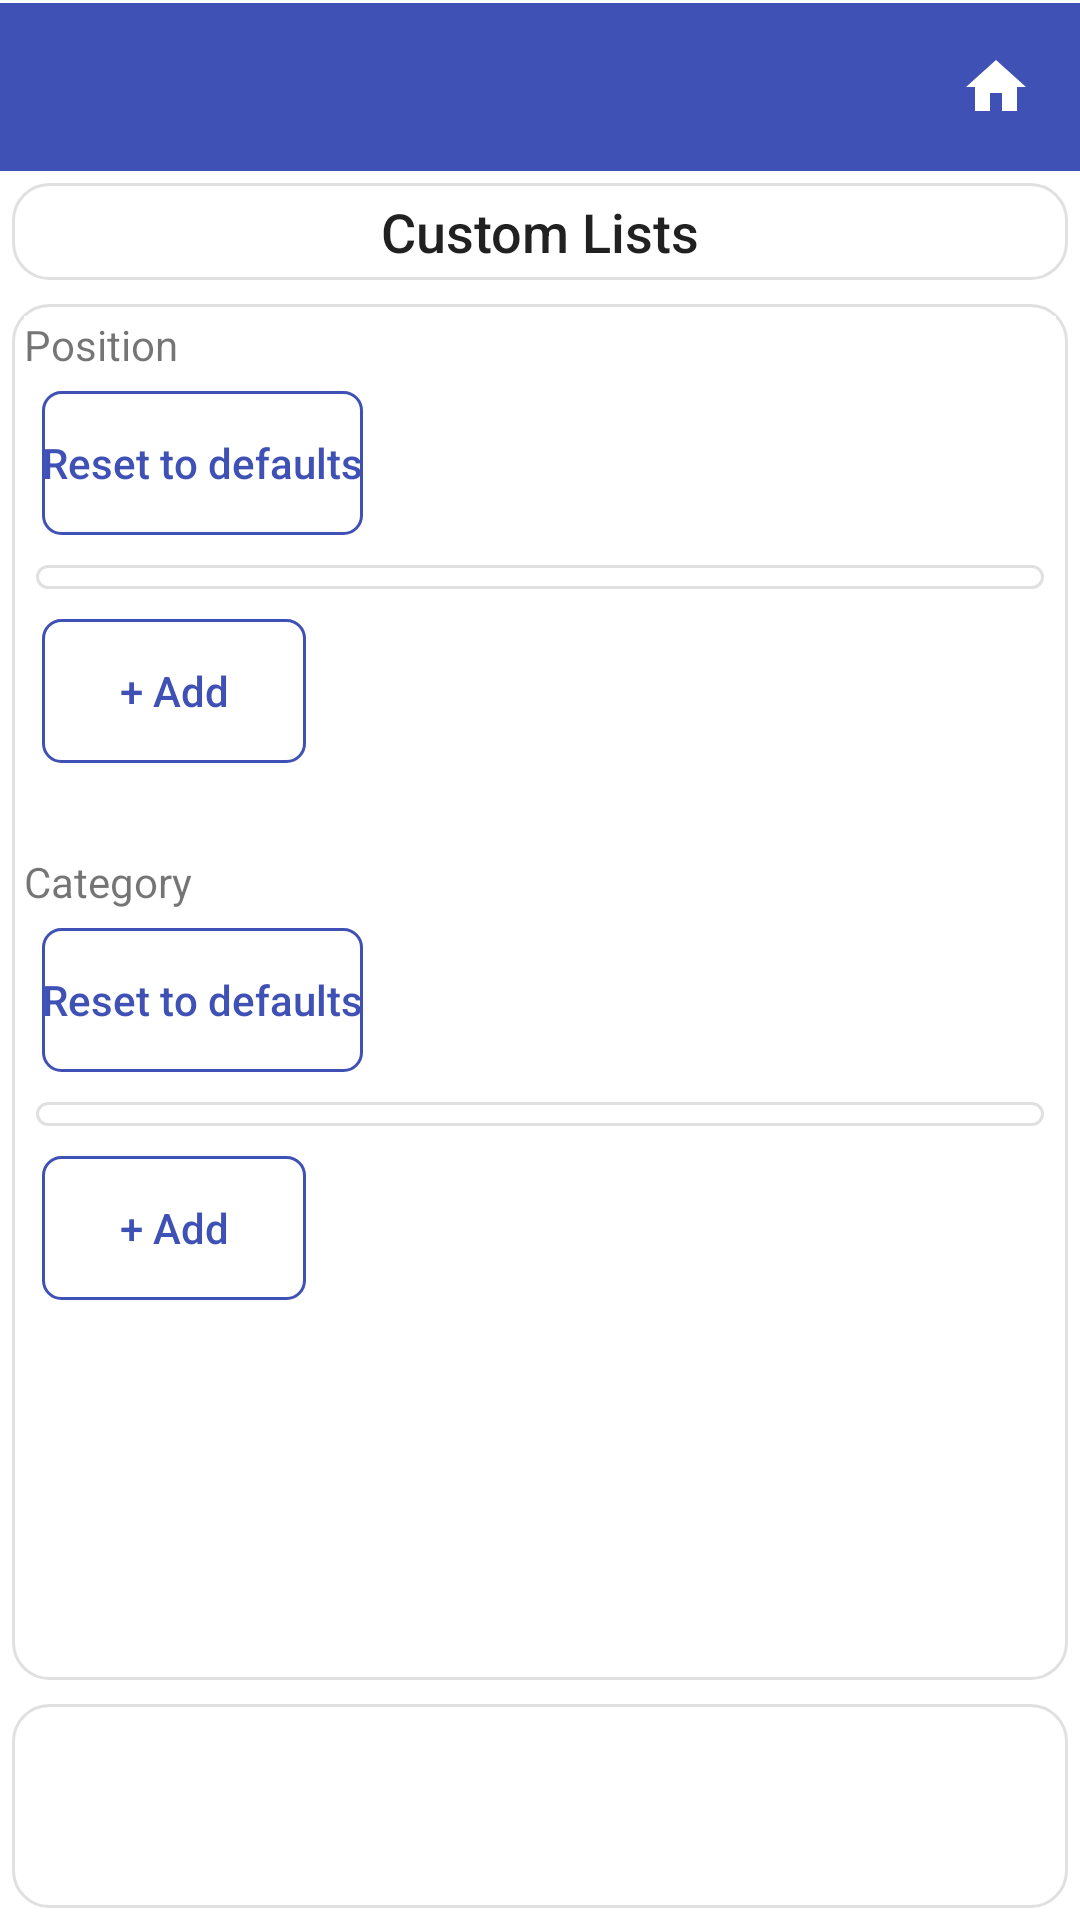

Locate icon controls on the screen. Image size 1080×1920, boxes as BBox(x1, y1, x2, y2).
Home: BBox(966, 60, 1026, 111)
